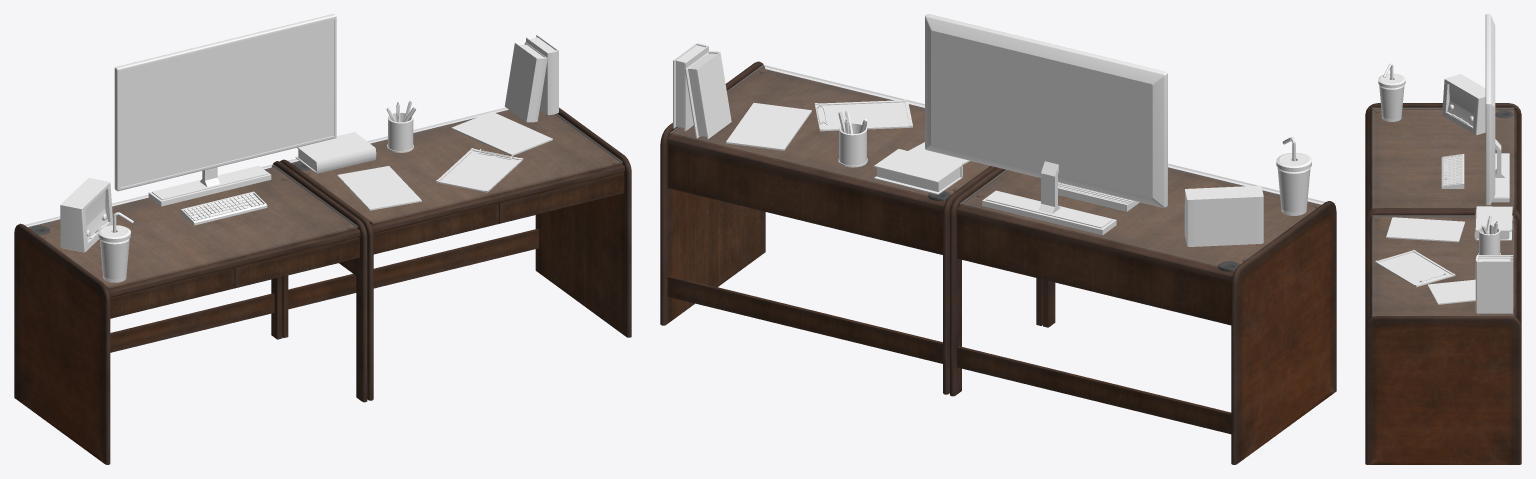
File: Table Set 1.FBX
3 renders of one model, left to right at view 1: azimuth 30°, elevation 25°; view 2: azimuth 150°, elevation 25°; view 3: azimuth 270°, elevation 25°, orthographic. The views are drawn at different scales.
Visible parts, largest first — view 1: Table set 1.001, screen, books, Radio, drawer002, drawer, drawer001, drawer003, a005, a4, clip board, book (+3 smaller); view 2: Table set 1.001, screen, Radio, books, a005, book, clip board, cup, pencil holder, keyboard; view 3: Table set 1.001, screen, books, Radio, a4, clip board, cup, book, a005, keyboard, pencil holder.
Boxes of the visible parts, bbox=[...] form: Table set 1.001: bbox=[14, 107, 631, 464]; screen: bbox=[114, 14, 336, 206]; books: bbox=[504, 35, 558, 122]; Radio: bbox=[60, 178, 112, 252]; drawer002: bbox=[234, 237, 359, 287]; drawer: bbox=[499, 173, 624, 223]; drawer001: bbox=[373, 204, 496, 253]; drawer003: bbox=[110, 268, 232, 318]; a005: bbox=[451, 111, 552, 155]; a4: bbox=[337, 166, 421, 210]; clip board: bbox=[436, 148, 523, 192]; book: bbox=[295, 132, 376, 173]; Table set 1.001: bbox=[660, 61, 1336, 464]; screen: bbox=[925, 14, 1167, 235]; Radio: bbox=[1184, 185, 1263, 246]; books: bbox=[673, 43, 731, 139]; a005: bbox=[726, 103, 811, 150]; book: bbox=[874, 149, 962, 194]; clip board: bbox=[814, 99, 912, 131]; cup: bbox=[1276, 137, 1311, 215]; pencil holder: bbox=[838, 111, 867, 167]; keyboard: bbox=[1058, 182, 1139, 211]; Table set 1.001: bbox=[1365, 103, 1521, 464]; screen: bbox=[1485, 14, 1509, 205]; books: bbox=[1475, 255, 1513, 313]; Radio: bbox=[1442, 74, 1485, 134]; a4: bbox=[1386, 217, 1465, 242]; clip board: bbox=[1375, 250, 1455, 287]; cup: bbox=[1378, 63, 1405, 121]; book: bbox=[1474, 206, 1512, 240]; a005: bbox=[1427, 279, 1475, 304]; keyboard: bbox=[1441, 154, 1464, 188]; pencil holder: bbox=[1478, 215, 1500, 254].
Size of the model in its own units: 311 by 183 by 95.72.
